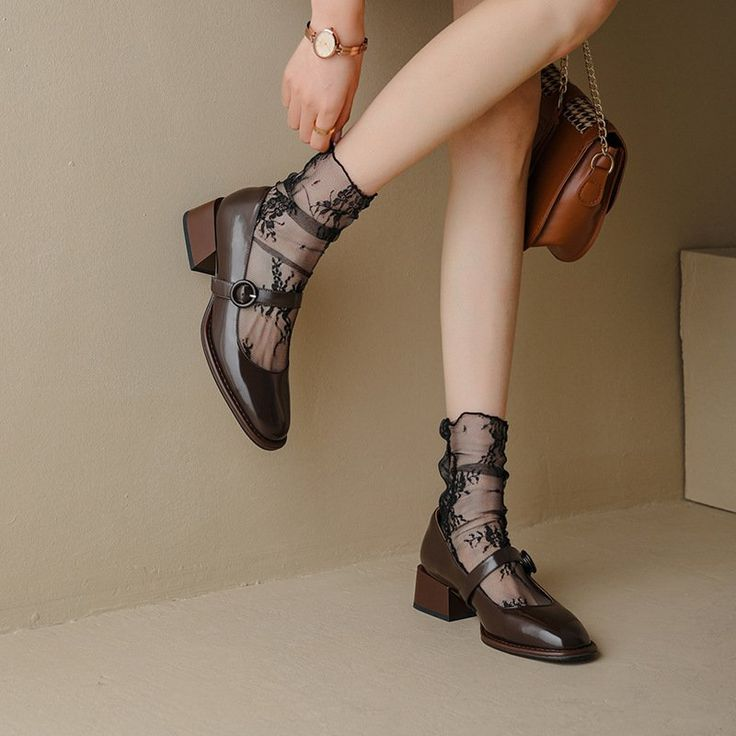cuero: (524, 66, 627, 265)
